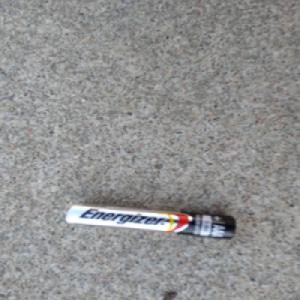Battery: (65, 202, 239, 241)
